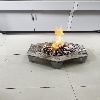fire: (43, 25, 69, 55)
